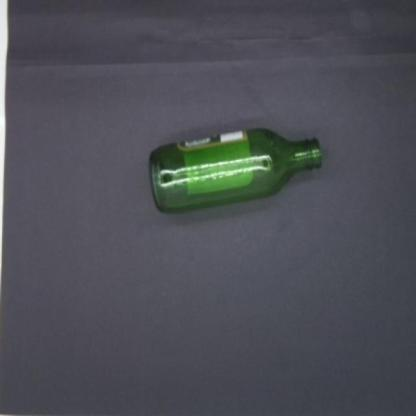Can: (149, 128, 322, 214)
